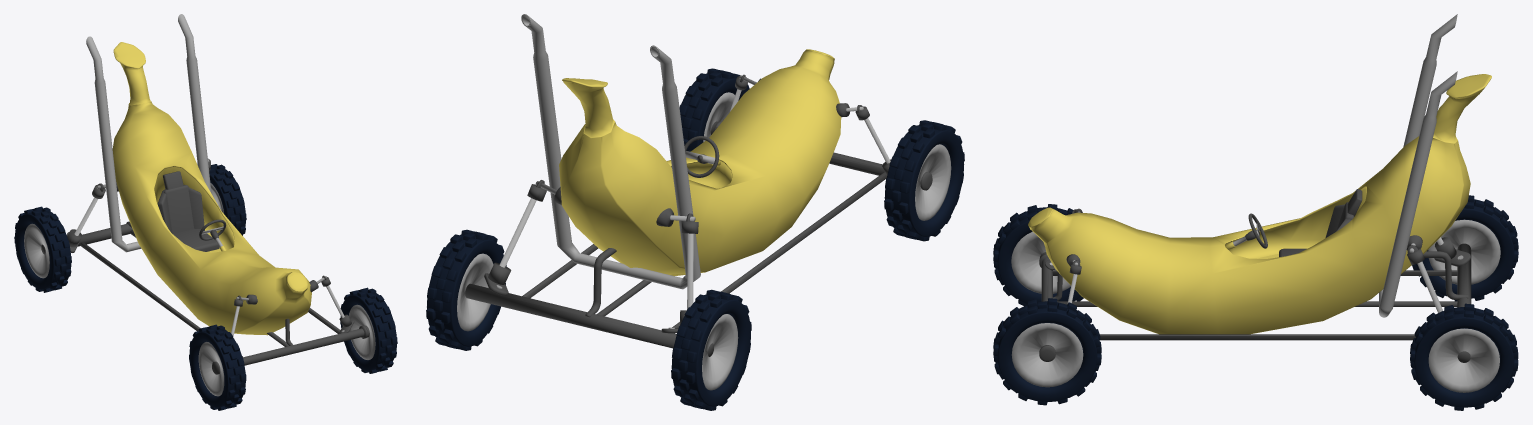
Rendered from Banan_Kart.fbx.
3 renders of one model, left to right at view 1: azimuth 30°, elevation 25°; view 2: azimuth 150°, elevation 25°; view 3: azimuth 270°, elevation 25°, orthographic. The views are drawn at different scales.
Parts seen in each view (by area): view 1: Body, Exhust, R_R_Wheel, F_R_Wheel, F_L_Wheel, Seat, R_L_Wheel, polySurface13; view 2: Body, Exhust, R_R_Wheel, F_R_Wheel, R_L_Wheel, F_L_Wheel, polySurface13, Steering; view 3: Body, R_L_Wheel, F_L_Wheel, R_R_Wheel, Exhust, F_R_Wheel, Seat, polySurface13.
Part boxes in pixels (x1,y1,x2,y2): Body: (41,42,354,357); Exhust: (86,14,211,252); R_R_Wheel: (14,206,71,292); F_R_Wheel: (189,324,246,410); F_L_Wheel: (340,287,397,373); Seat: (157,171,219,251); R_L_Wheel: (209,164,246,235); polySurface13: (212,318,369,374); Body: (465,49,891,356); Exhust: (521,14,700,289); R_R_Wheel: (671,289,751,410); F_R_Wheel: (884,120,964,241); R_L_Wheel: (426,229,506,350); F_L_Wheel: (679,68,749,151); polySurface13: (711,121,932,190); Steering: (684,136,719,177); Body: (1028,74,1491,362); R_L_Wheel: (1410,303,1518,410); F_L_Wheel: (993,298,1101,405); R_R_Wheel: (1412,195,1518,301); Exhust: (1379,14,1457,317); F_R_Wheel: (993,204,1083,306); Seat: (1279,189,1362,256); polySurface13: (1039,252,1062,361).
Size of the model in its own units: 14 by 16.96 by 25.86.
